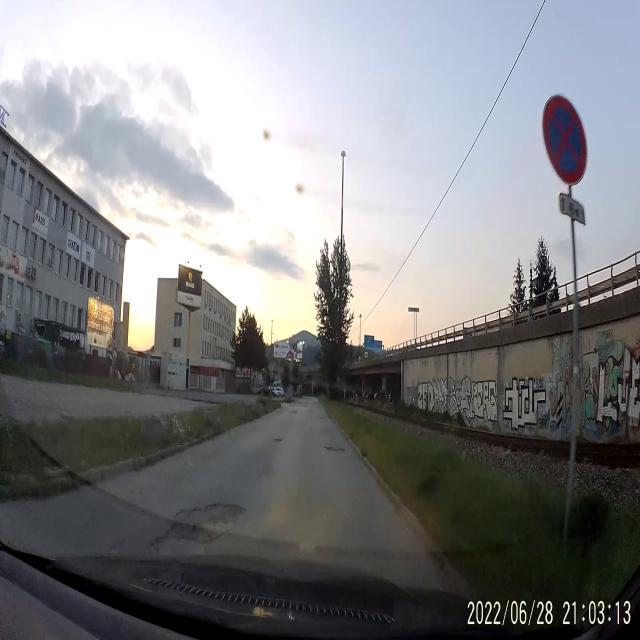Pothole: (165, 500, 248, 546), (323, 443, 346, 457), (150, 534, 165, 550), (272, 436, 284, 444), (290, 409, 298, 414)
